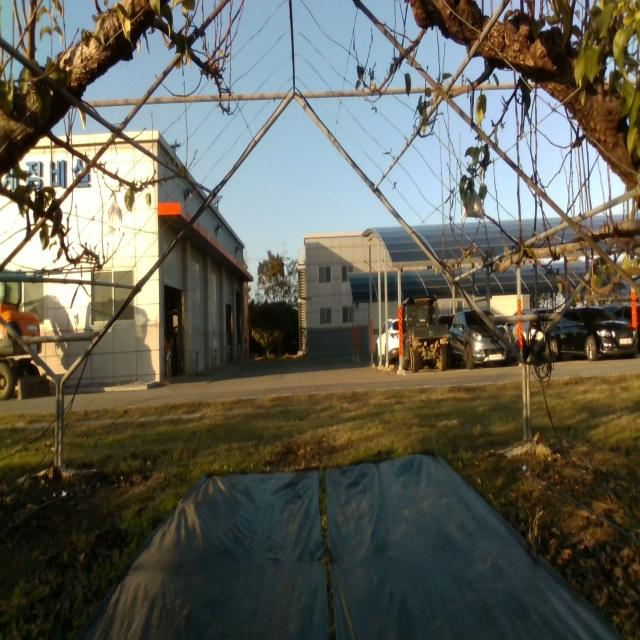pearbags: (461, 188, 486, 221), (107, 201, 123, 234)
